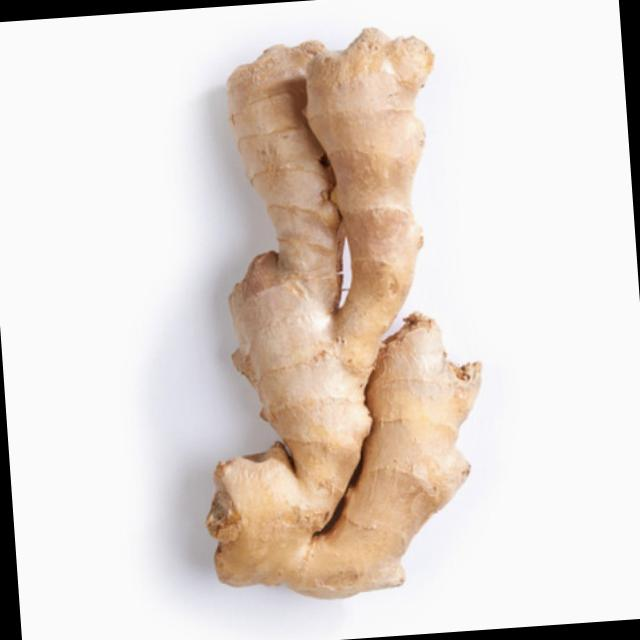ginger-root: (149, 0, 511, 608)
